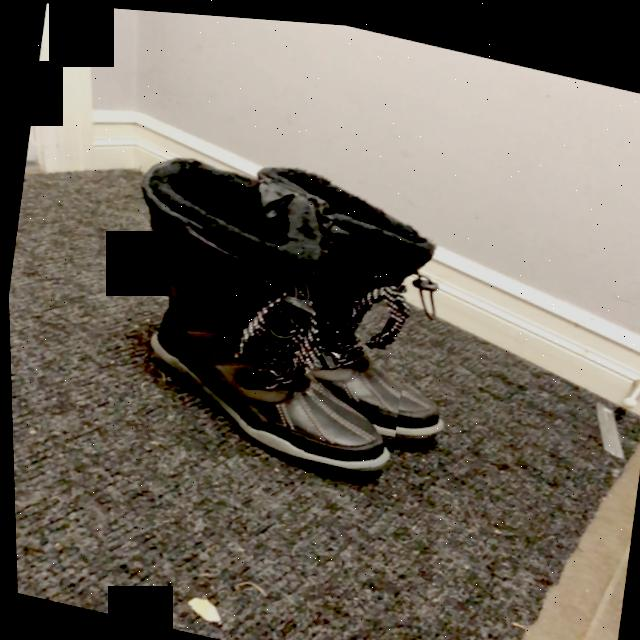shoe: (144, 267, 390, 465)
